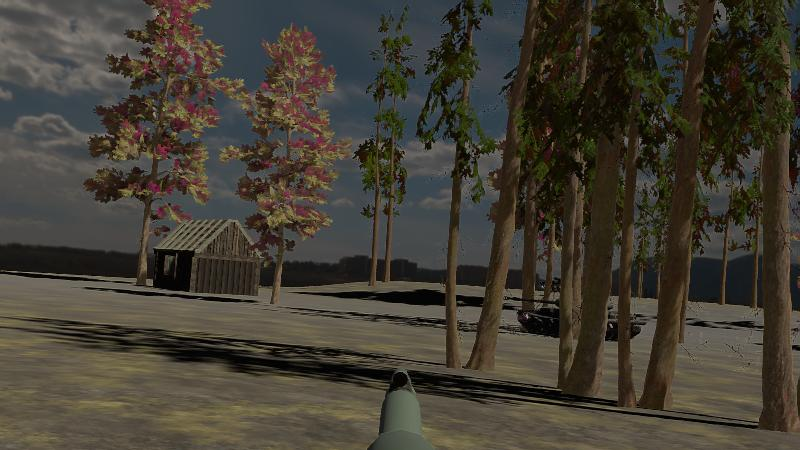House: (150, 217, 262, 296)
Tank: (500, 291, 649, 342)
